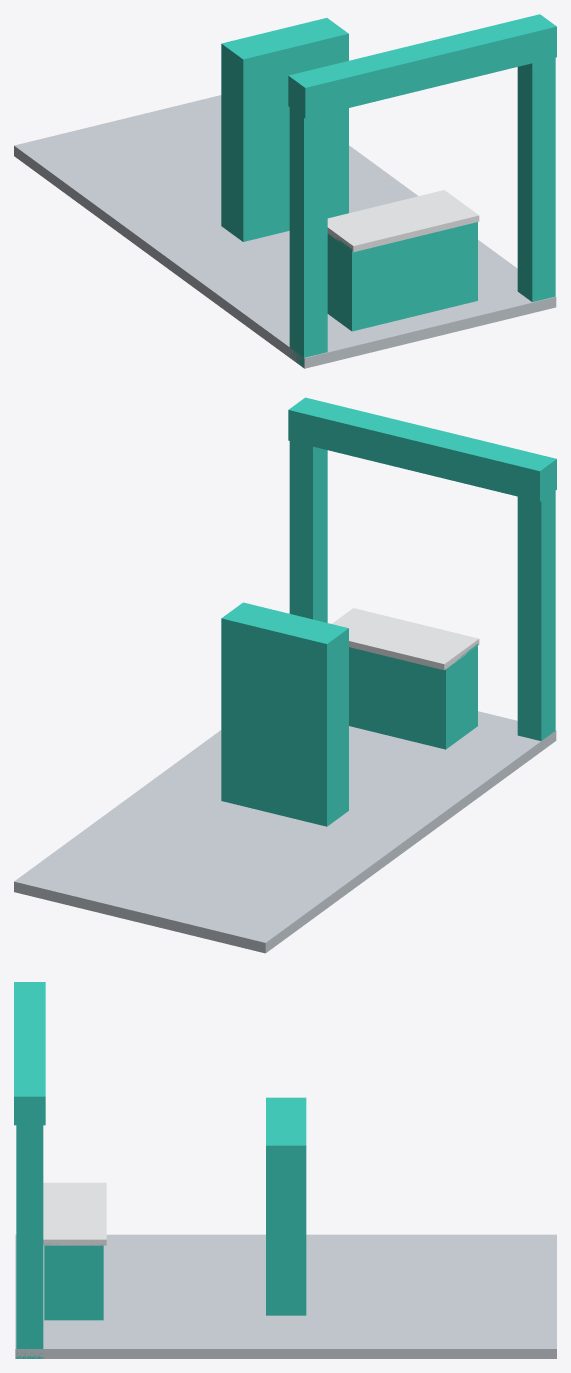
3 views of the same model, one above another, from view 1: azimuth 30°, elevation 25°; view 2: azimuth 150°, elevation 25°; view 3: azimuth 270°, elevation 25° (orthographic). The views are drawn at different scales.
Visible parts, largest first — view 1: Exhibition Booth Concept; view 2: Exhibition Booth Concept; view 3: Exhibition Booth Concept.
Boxes of the visible parts, x1=… form: Exhibition Booth Concept: x1=14, y1=14, x2=556, y2=368; Exhibition Booth Concept: x1=14, y1=397, x2=556, y2=953; Exhibition Booth Concept: x1=14, y1=982, x2=556, y2=1358.
Bounding box in the file's own units: 3 × 3.2 × 6.02.
